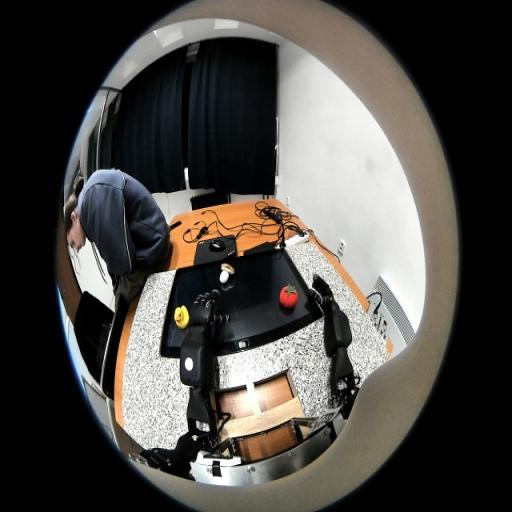Duck: (174, 305, 190, 329)
LeftHand: (190, 305, 210, 318)
Mushroom: (219, 263, 235, 283)
RightHand: (321, 290, 333, 310)
Tomato: (279, 283, 298, 308)
